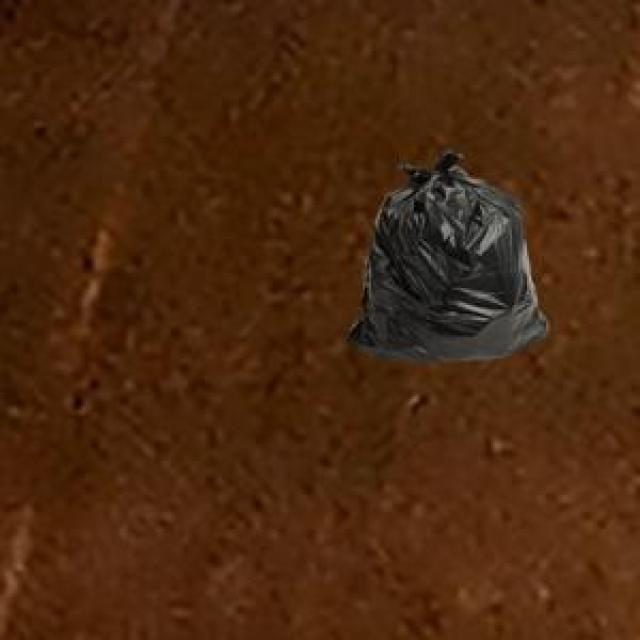garbage_bag: (342, 145, 551, 365)
